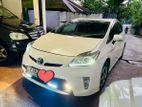car: (21, 16, 127, 98), (0, 6, 43, 61)
